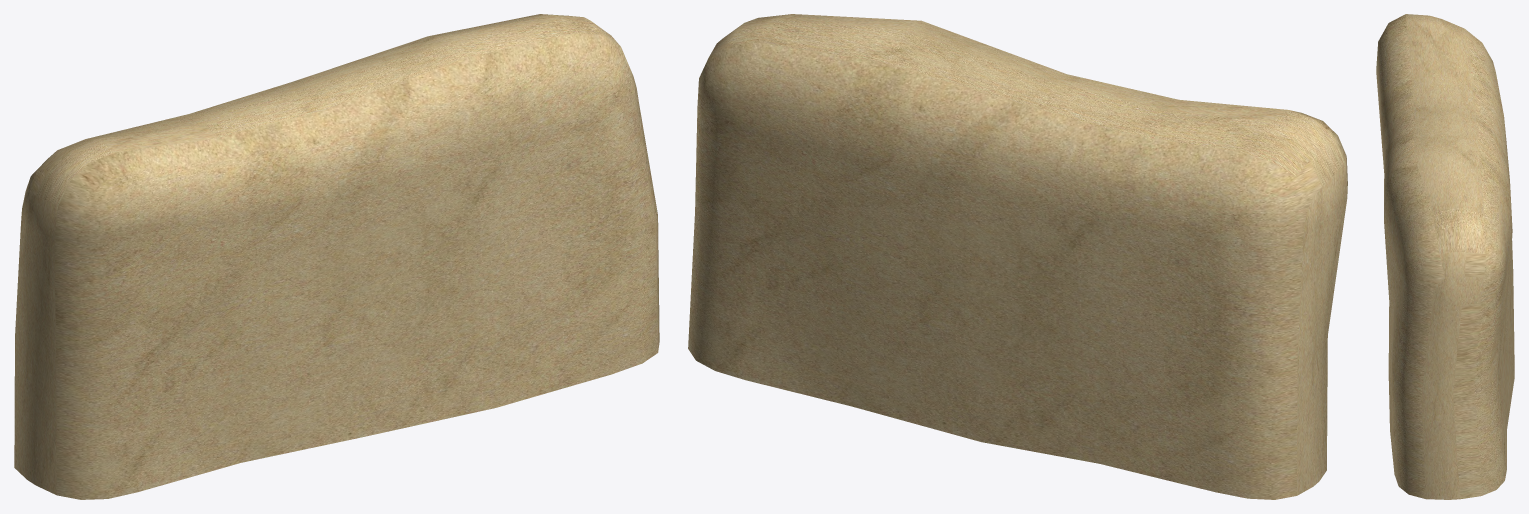
File: wall_smooth.FBX
3 renders of one model, left to right at view 1: azimuth 30°, elevation 25°; view 2: azimuth 150°, elevation 25°; view 3: azimuth 270°, elevation 25°, orthographic. The views are drawn at different scales.
Visible parts, largest first — view 1: wall2; view 2: wall2; view 3: wall2.
Part boxes in pixels (x1,y1,x2,y2): wall2: (14,14,659,499); wall2: (688,14,1347,499); wall2: (1376,14,1514,499).
Bounding box in the file's own units: 4.13 × 2.2 × 1.01.
Materials: 1 (1 with a texture image).
